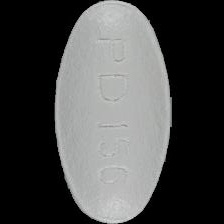42254-261: (0, 0, 224, 224)
